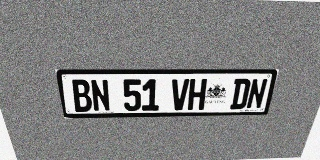1: (142, 79, 159, 111)
5: (123, 79, 141, 111)
B: (70, 79, 93, 112)
D: (230, 79, 251, 109)
H: (187, 79, 207, 110)
N: (90, 79, 111, 112), (246, 79, 268, 109)
V: (171, 79, 189, 110)
